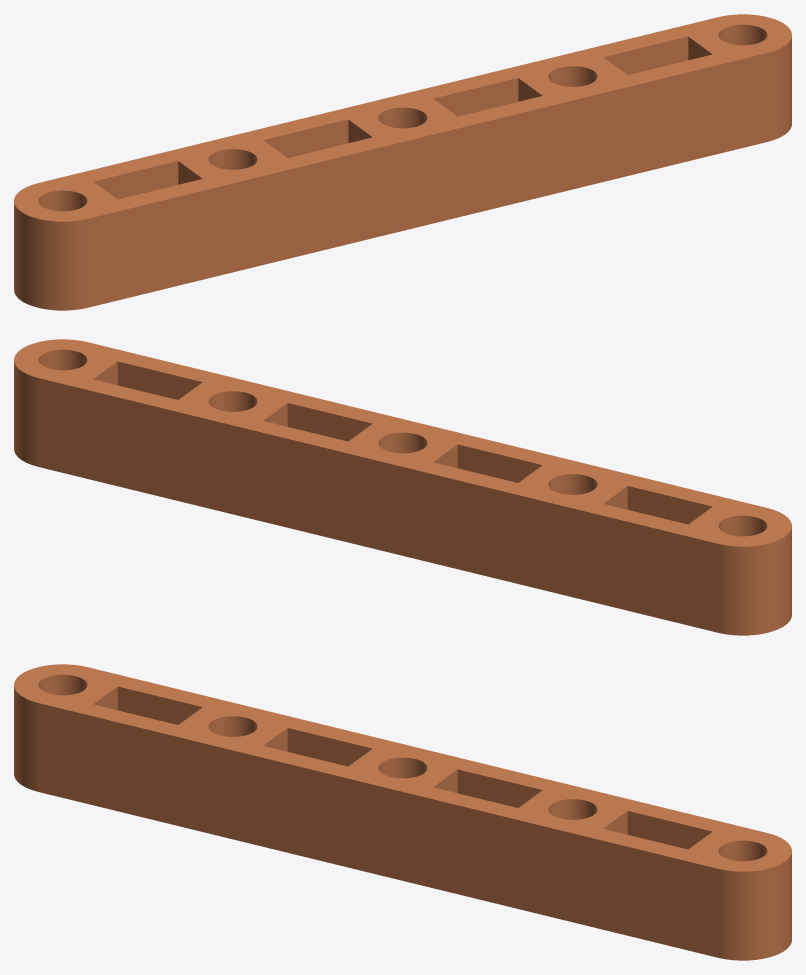
The model's file is 4M Module.glb.
3 renders of one model, top to bottom at view 1: azimuth 30°, elevation 25°; view 2: azimuth 150°, elevation 25°; view 3: azimuth 330°, elevation 25°, orthographic.
Visible parts, largest first — view 1: 4M Module.ipt; view 2: 4M Module.ipt; view 3: 4M Module.ipt.
Boxes of the visible parts, box(x1,y1,x2,y2) form: 4M Module.ipt: box(14, 14, 791, 310); 4M Module.ipt: box(14, 339, 791, 635); 4M Module.ipt: box(14, 664, 791, 960).
Size of the model in its own units: 0.1143 by 0.0127 by 0.0127.
